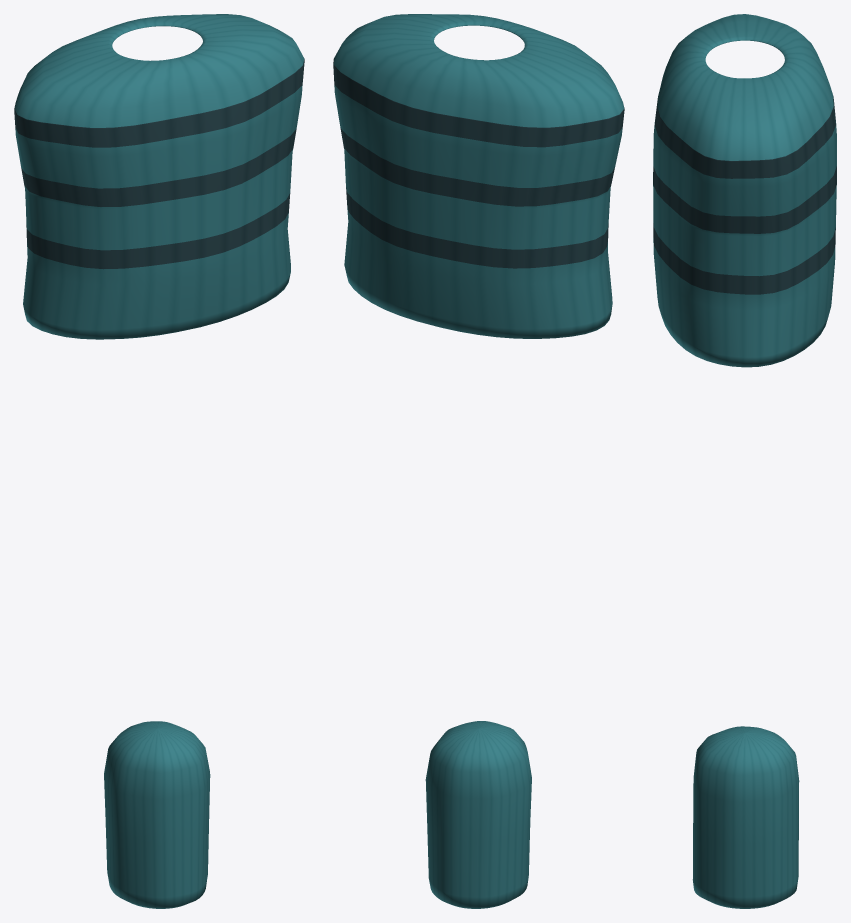
The model's file is marina_stripe_tee.gltf.
3 renders of one model, left to right at view 1: azimuth 30°, elevation 25°; view 2: azimuth 150°, elevation 25°; view 3: azimuth 270°, elevation 25°, orthographic.
Parts seen in each view (by area): view 1: Torso, SleeveL; view 2: Torso, SleeveL; view 3: Torso, SleeveL.
Part boxes in pixels (<box>): Torso: <box>14,14,304,339</box>; SleeveL: <box>104,721,210,908</box>; Torso: <box>333,14,624,338</box>; SleeveL: <box>425,721,531,908</box>; Torso: <box>653,14,836,367</box>; SleeveL: <box>692,726,799,908</box>.
Bounding box in the file's own units: 0.5275 × 1.55 × 0.3099.
2 materials, 2 textured.
